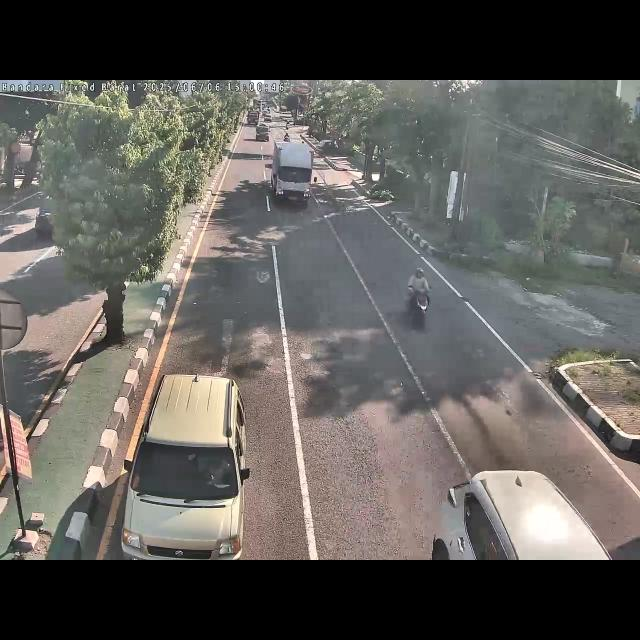Mobil: (114, 362, 264, 560), (425, 466, 619, 560)
Motor: (402, 264, 434, 332)
Truk: (269, 136, 319, 214)
